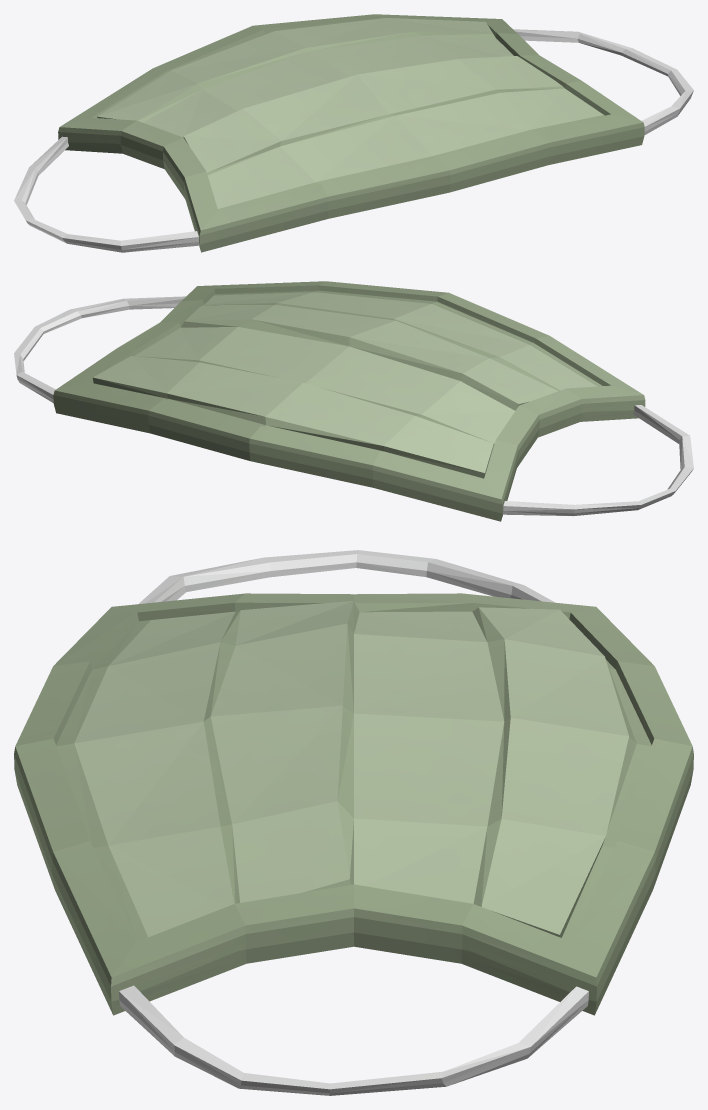
Rendered from face_mask_2.obj.
The picture shows the model from 3 angles, top to bottom: view 1: azimuth 30°, elevation 25°; view 2: azimuth 150°, elevation 25°; view 3: azimuth 270°, elevation 25°; orthographic projection. The views are drawn at different scales.
Parts seen in each view (by area): view 1: face_mask_2_Material; view 2: face_mask_2_Material; view 3: face_mask_2_Material.
Boxes of the visible parts, <box> form: face_mask_2_Material: <box>14,14,693,252</box>; face_mask_2_Material: <box>14,281,693,521</box>; face_mask_2_Material: <box>14,550,693,1095</box>.
Bounding box in the file's own units: 0.2196 × 0.0247 × 0.1172.
